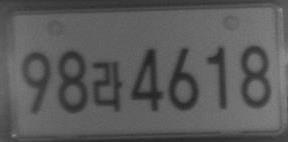1: (204, 45, 235, 108)
4: (130, 48, 164, 112)
6: (167, 46, 198, 110)
8: (240, 44, 271, 108), (57, 50, 88, 113)
9: (20, 51, 51, 114)
라: (91, 60, 123, 112)
